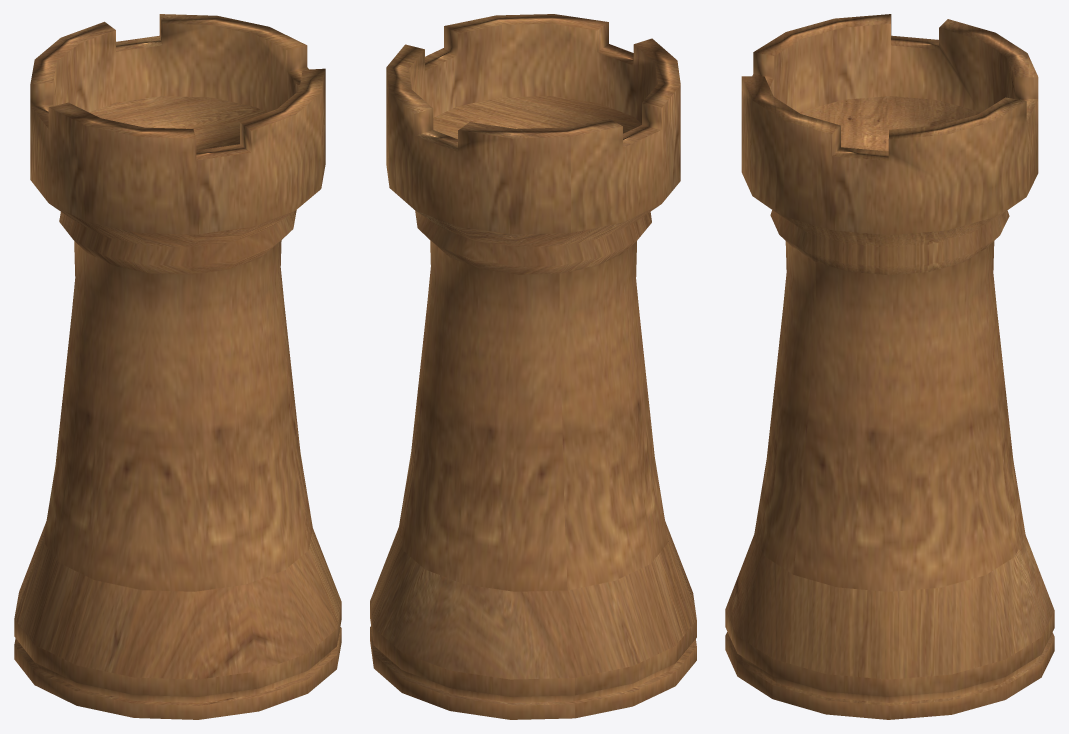
File: fort_b.glb
3 renders of one model, left to right at view 1: azimuth 30°, elevation 25°; view 2: azimuth 150°, elevation 25°; view 3: azimuth 270°, elevation 25°, orthographic.
Parts seen in each view (by area): view 1: Cylinder.024; view 2: Cylinder.024; view 3: Cylinder.024.
Part boxes in pixels (left/top/right/bottom): Cylinder.024: left=14, top=14, right=341, bottom=719; Cylinder.024: left=370, top=14, right=696, bottom=719; Cylinder.024: left=725, top=14, right=1054, bottom=719.
Size of the model in its own units: 5.5 by 10.57 by 5.5.
1 material, 1 textured.
